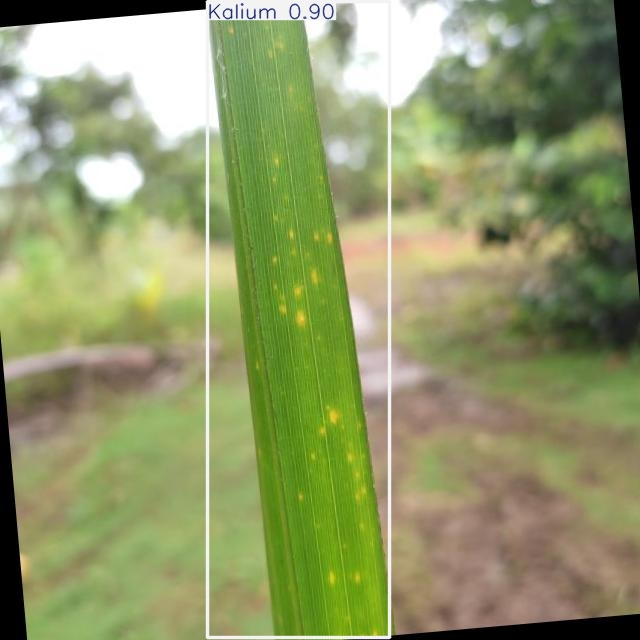Kalium: (207, 1, 390, 638)
